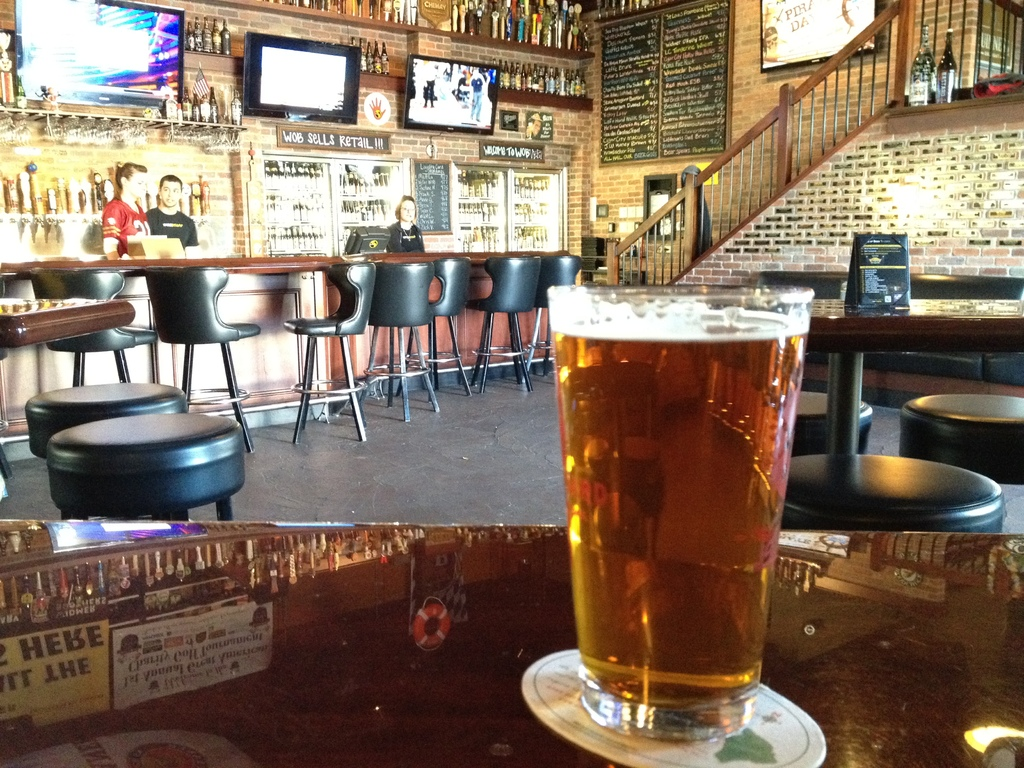Beer: (551, 308, 806, 701)
